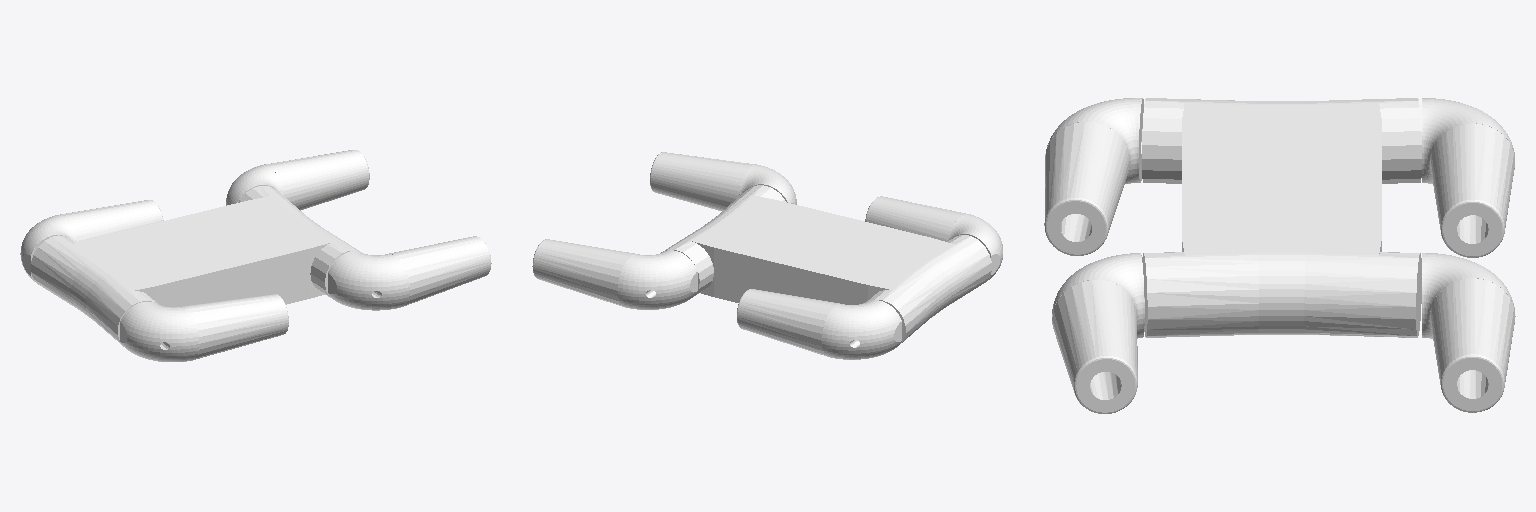
The robot description file, URDF, robot "4_degree":
<?xml version="1.0" encoding="utf-8"?>
<!-- This URDF was automatically created by SolidWorks to URDF Exporter! Originally created by [author] ([email redacted]) 
     Commit Version: 1.5.1-0-g916b5db  Build Version: 1.5.7152.31018
     For more information, please see http://wiki.ros.org/sw_urdf_exporter -->
<robot
  name="4_degree">
  <link
    name="base_link">
    <inertial>
      <origin
        xyz="-3.4694E-17 1.1592E-08 0"
        rpy="0 0 0" />
      <mass
        value="2.942" />
      <inertia
        ixx="0.0102925"
        ixy="2.1126E-18"
        ixz="-1.4976E-10"
        iyy="0.0386304"
        iyz="7.5824E-18"
        izz="0.0465355" />
    </inertial>
    <visual>
      <origin
        xyz="0 0 0"
        rpy="0 0 0" />
      <geometry>
        <mesh
          filename="package://4_degree/meshes/base_link.STL" />
      </geometry>
      <material
        name="">
        <color
          rgba="1 1 1 1" />
      </material>
    </visual>
    <collision>
      <origin
        xyz="0 0 0"
        rpy="0 0 0" />
      <geometry>
        <mesh
          filename="package://4_degree/meshes/base_link.STL" />
      </geometry>
    </collision>
  </link>
  <link
    name="left_front_link">
    <inertial>
      <origin
        xyz="-2.6147E-08 0.059203 -0.031959"
        rpy="0 0 0" />
      <mass
        value="0.092" />
      <inertia
        ixx="0.0002604"
        ixy="5.2261E-10"
        ixz="9.6976E-10"
        iyy="0.0000504"
        iyz="0.82E-05"
        izz="0.0002597" />
    </inertial>
    <visual>
      <origin
        xyz="0 0 0"
        rpy="0 0 0" />
      <geometry>
        <mesh
          filename="package://4_degree/meshes/left_front_link.STL" />
      </geometry>
      <material
        name="">
        <color
          rgba="1 1 1 1" />
      </material>
    </visual>
    <collision>
      <origin
        xyz="0 0 0"
        rpy="0 0 0" />
      <geometry>
        <mesh
          filename="package://4_degree/meshes/left_front_link.STL" />
      </geometry>
    </collision>
  </link>
  <joint
    name="left_front_leg"
    type="continuous">
    <origin
      xyz="0.13718 0.10275 0"
      rpy="1.5708 1.5708 0" />
    <parent
      link="base_link" />
    <child
      link="left_front_link" />
    <axis
      xyz="0 0.069756 -0.99756" />
    <limit
      effort="5"
      velocity="487" />
  </joint>
  <link
    name="right_front_link">
    <inertial>
      <origin
        xyz="2.6147E-08 0.059203 0.031959"
        rpy="0 0 0" />
      <mass
        value="0.092" />
      <inertia
        ixx="0.0002604"
        ixy="-5.2261E-10"
        ixz="9.6976E-10"
        iyy="0.0000504"
        iyz="-0.82E-05"
        izz="0.0002597" />
    </inertial>
    <visual>
      <origin
        xyz="0 0 0"
        rpy="0 0 0" />
      <geometry>
        <mesh
          filename="package://4_degree/meshes/right_front_link.STL" />
      </geometry>
      <material
        name="">
        <color
          rgba="1 1 1 1" />
      </material>
    </visual>
    <collision>
      <origin
        xyz="0 0 0"
        rpy="0 0 0" />
      <geometry>
        <mesh
          filename="package://4_degree/meshes/right_front_link.STL" />
      </geometry>
    </collision>
  </link>
  <joint
    name="right_front_leg"
    type="continuous">
    <origin
      xyz="0.13718 -0.10275 0"
      rpy="1.5708 1.5708 0" />
    <parent
      link="base_link" />
    <child
      link="right_front_link" />
    <axis
      xyz="0 0.069756 0.99756" />
    <limit
      effort="5"
      velocity="487" />
  </joint>
  <link
    name="right_back_link">
    <inertial>
      <origin
        xyz="6.6001E-09 0.05683 0.03601"
        rpy="0 0 0" />
      <mass
        value="0.092" />
      <inertia
        ixx="0.0002604"
        ixy="-6.7247E-10"
        ixz="6.8674E-10"
        iyy="0.0000526"
        iyz="-2.27E-05"
        izz="0.0002575" />
    </inertial>
    <visual>
      <origin
        xyz="0 0 0"
        rpy="0 0 0" />
      <geometry>
        <mesh
          filename="package://4_degree/meshes/right_back_link.STL" />
      </geometry>
      <material
        name="">
        <color
          rgba="1 1 1 1" />
      </material>
    </visual>
    <collision>
      <origin
        xyz="0 0 0"
        rpy="0 0 0" />
      <geometry>
        <mesh
          filename="package://4_degree/meshes/right_back_link.STL" />
      </geometry>
    </collision>
  </link>
  <joint
    name="right_back_leg"
    type="continuous">
    <origin
      xyz="-0.13718 -0.10275 0"
      rpy="1.6406 1.5708 0" />
    <parent
      link="base_link" />
    <child
      link="right_back_link" />
    <axis
      xyz="0 0 1" />
    <limit
      effort="5"
      velocity="487" />
  </joint>
  <link
    name="left_back_link">
    <inertial>
      <origin
        xyz="-6.6001E-09 0.05418 -0.039887"
        rpy="0 0 0" />
      <mass
        value="0.092" />
      <inertia
        ixx="0.0002604"
        ixy="7.1873E-10"
        ixz="6.3816E-10"
        iyy="0.0000568"
        iyz="0.0000367"
        izz="0.0002534" />
    </inertial>
    <visual>
      <origin
        xyz="0 0 0"
        rpy="0 0 0" />
      <geometry>
        <mesh
          filename="package://4_degree/meshes/left_back_link.STL" />
      </geometry>
      <material
        name="">
        <color
          rgba="1 1 1 1" />
      </material>
    </visual>
    <collision>
      <origin
        xyz="0 0 0"
        rpy="0 0 0" />
      <geometry>
        <mesh
          filename="package://4_degree/meshes/left_back_link.STL" />
      </geometry>
    </collision>
  </link>
  <joint
    name="left_back_leg"
    type="continuous">
    <origin
      xyz="-0.13718 0.10275 0"
      rpy="1.5708 1.5708 0" />
    <parent
      link="base_link" />
    <child
      link="left_back_link" />
    <axis
      xyz="0 -0.069756 -0.99756" />
    <limit
      effort="5"
      velocity="487" />
  </joint>
</robot>

--- What the picture shows (computed from the rendered views, not written in the file) ---
Views: 3 orthographic renders of the robot side by side, from view 1: azimuth 30°, elevation 25°; view 2: azimuth 150°, elevation 25°; view 3: azimuth 270°, elevation 25°.
Model 4_degree with 5 links and 4 joints (4 continuous), rooted at base_link, posed every joint at zero.
Visible links, largest first — view 1: base_link, right_back_link, right_front_link, left_front_link, left_back_link; view 2: base_link, left_back_link, left_front_link, right_front_link, right_back_link; view 3: base_link, right_back_link, right_front_link, left_back_link, left_front_link.
Boxes of the visible links, left/top/right/bottom form: base_link: left=31, top=186, right=359, bottom=346; right_back_link: left=120, top=294, right=288, bottom=361; right_front_link: left=328, top=236, right=491, bottom=310; left_front_link: left=226, top=150, right=369, bottom=210; left_back_link: left=20, top=200, right=163, bottom=281; base_link: left=661, top=185, right=991, bottom=343; left_back_link: left=737, top=289, right=901, bottom=359; left_front_link: left=532, top=239, right=697, bottom=309; right_front_link: left=650, top=152, right=796, bottom=210; right_back_link: left=865, top=196, right=1002, bottom=282; base_link: left=1142, top=98, right=1421, bottom=337; right_back_link: left=1044, top=98, right=1143, bottom=255; right_front_link: left=1052, top=253, right=1144, bottom=413; left_back_link: left=1422, top=98, right=1514, bottom=257; left_front_link: left=1422, top=253, right=1515, bottom=412.
Bounding box of the posed robot: 0.4678 × 0.3528 × 0.064 m (x, y, z).
5 mesh visuals loaded from 5 distinct referenced files (5 binary STL).